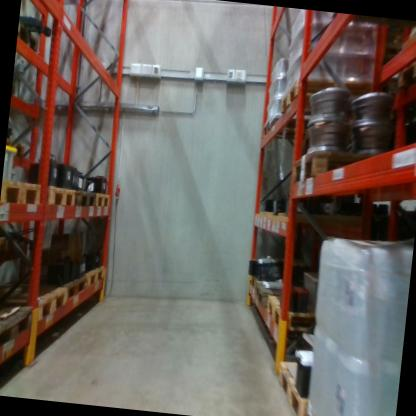pallet: (289, 147, 404, 209), (280, 69, 388, 128), (0, 276, 68, 328), (270, 354, 327, 416), (267, 295, 342, 339), (36, 268, 88, 321), (0, 300, 35, 358), (252, 278, 306, 313), (261, 112, 318, 144), (0, 174, 41, 214), (42, 178, 77, 212), (16, 19, 44, 56), (395, 44, 416, 89), (82, 258, 107, 295), (73, 187, 97, 216), (92, 189, 114, 219), (249, 269, 261, 286)
